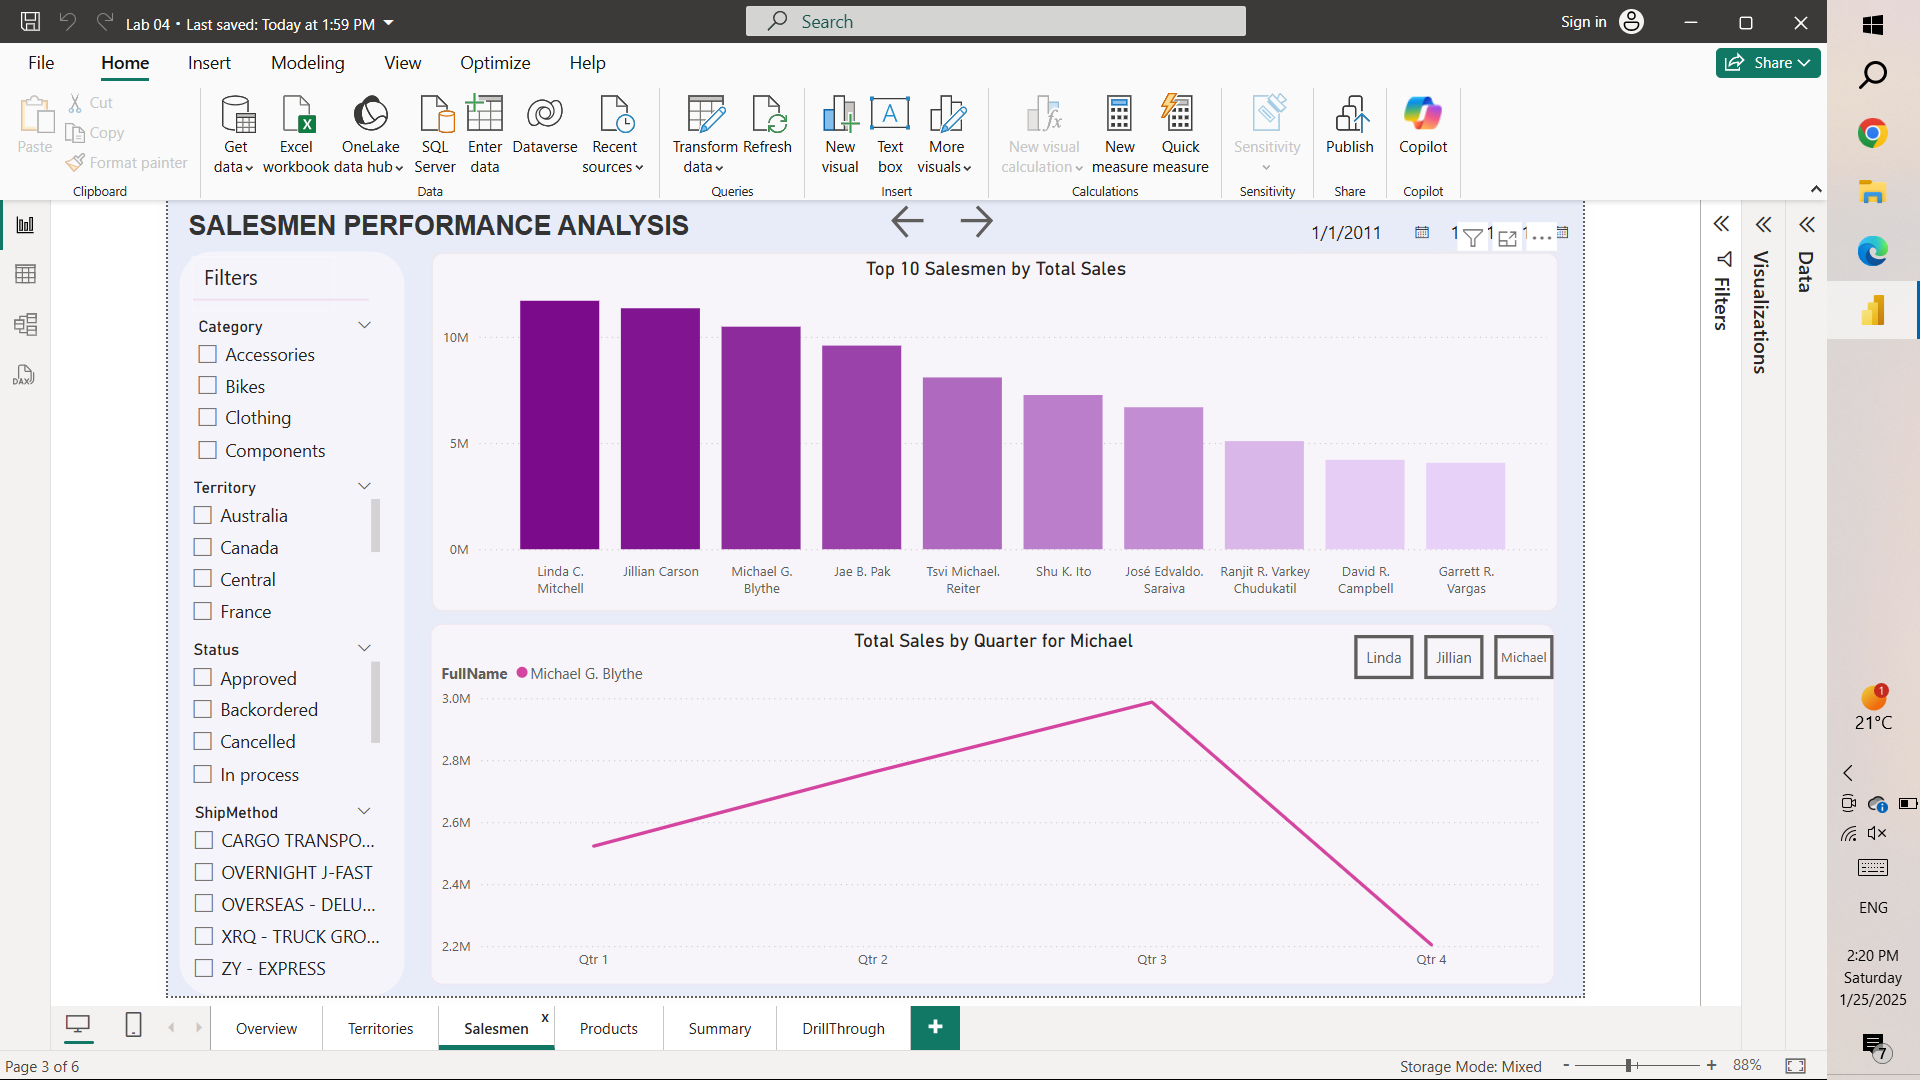

This screenshot's page, from the dashboard's own definition file:
{"tool":"powerbi","page":{"name":"Salesmen","canvas":[1280,720],"ordinal":2},"visuals":[{"type":"slicer","fields":{"Values":["DimDate.Date"]},"box":[1011.9,0,267.9,89.7],"z":0},{"type":"shape","box":[10.2,46.6,204.1,673.4],"z":1000},{"type":"textbox","box":[21.2,51.1,129.6,49.8],"z":2000},{"type":"shape","box":[22.4,37.4,159.5,105.9],"z":3000},{"type":"columnChart","title":"Top 10 Salesmen by Total Sales","fields":{"Category":["vw_DimSalesPersons.FullName"],"Y":["DAX_Measures.TotalDue"]},"box":[238.4,47.7,1019,324.8],"z":4000},{"type":"textbox","box":[13.1,5.8,569.9,70],"z":6000},{"type":"slicer","fields":{"Values":["vw_DimProducts.Category"]},"box":[14.6,100.6,182.2,167.6],"z":7000},{"type":"slicer","fields":{"Values":["vw_DimTerritories.Territory"]},"box":[10.2,246.3,186.6,147.2],"z":8000},{"type":"slicer","fields":{"Values":["vw_DimStatuses.Status"]},"box":[10.2,393.5,186.6,142.8],"z":9000},{"type":"slicer","fields":{"Values":["vw_DimShipMethods.ShipMethod"]},"box":[11.7,540.7,185.1,179.3],"z":10000},{"type":"actionButton","box":[650.1,0,100.6,39.4],"z":11000},{"type":"actionButton","box":[711.3,0,100.6,39.4],"z":12000},{"type":"lineChart","title":"Total Sales by Quarter for Michael","fields":{"Category":["DimDate.Date.Variation.Date Hierarchy.Year","DimDate.Date.Variation.Date Hierarchy.Quarter","DimDate.Date.Variation.Date Hierarchy.Month","DimDate.Date.Variation.Date Hierarchy.Day"],"Y":["DAX_Measures.TotalDue"],"Series":["vw_DimSalesPersons.FullName"]},"box":[238,383,1016.9,326.7],"z":14000},{"type":"actionButton","box":[1072.9,393.8,53.6,39.9],"z":15000},{"type":"actionButton","box":[1136.5,393.8,53.6,39.9],"z":15001},{"type":"actionButton","box":[1200,393.8,53.6,39.9],"z":15002}]}

Visuals, with their boxes on the page's 1280x720 design canvas (x1, y1, x2, y2). These are canvas units, not pixel positions in the 1920x1080 screenshot, which may show the page scaled, cropped or inside an application window:
slicer - DimDate.Date: Rect(1012, 0, 1280, 90)
shape: Rect(10, 47, 214, 720)
textbox: Rect(21, 51, 151, 101)
shape: Rect(22, 37, 182, 143)
"Top 10 Salesmen by Total Sales" columnChart: Rect(238, 48, 1257, 372)
textbox: Rect(13, 6, 583, 76)
slicer - vw_DimProducts.Category: Rect(15, 101, 197, 268)
slicer - vw_DimTerritories.Territory: Rect(10, 246, 197, 394)
slicer - vw_DimStatuses.Status: Rect(10, 394, 197, 536)
slicer - vw_DimShipMethods.ShipMethod: Rect(12, 541, 197, 720)
actionButton: Rect(650, 0, 751, 39)
actionButton: Rect(711, 0, 812, 39)
"Total Sales by Quarter for Michael" lineChart: Rect(238, 383, 1255, 710)
actionButton: Rect(1073, 394, 1126, 434)
actionButton: Rect(1136, 394, 1190, 434)
actionButton: Rect(1200, 394, 1254, 434)
